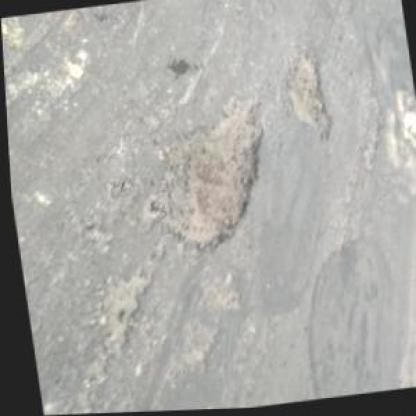pothole: (134, 93, 278, 254), (280, 49, 334, 144)
